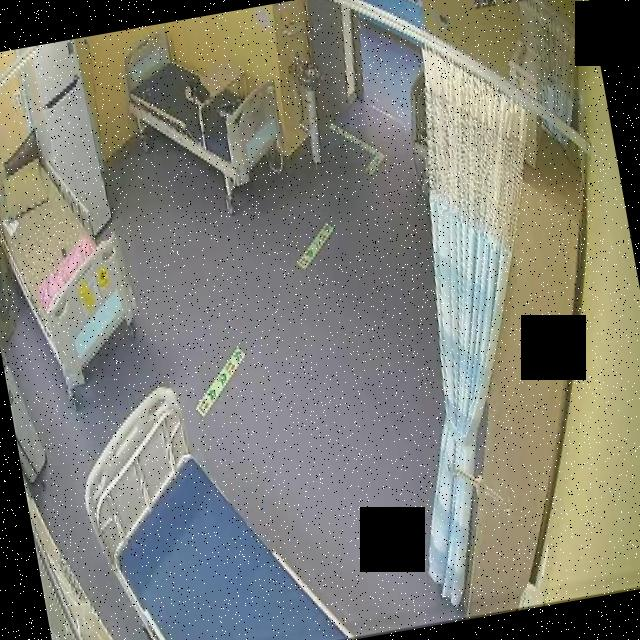bed: (64, 359, 350, 640), (0, 136, 143, 379), (119, 13, 291, 199)
